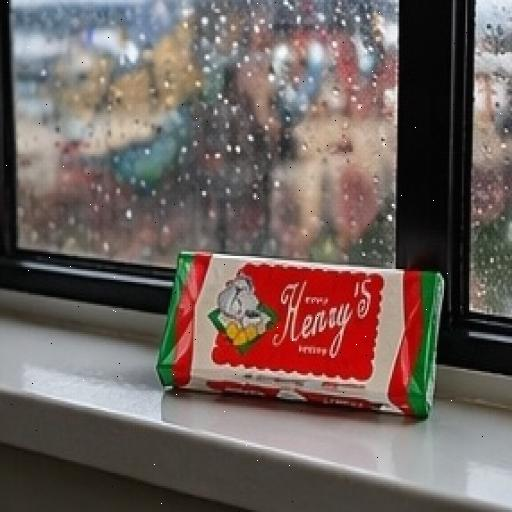golden: (102, 169, 512, 464)
